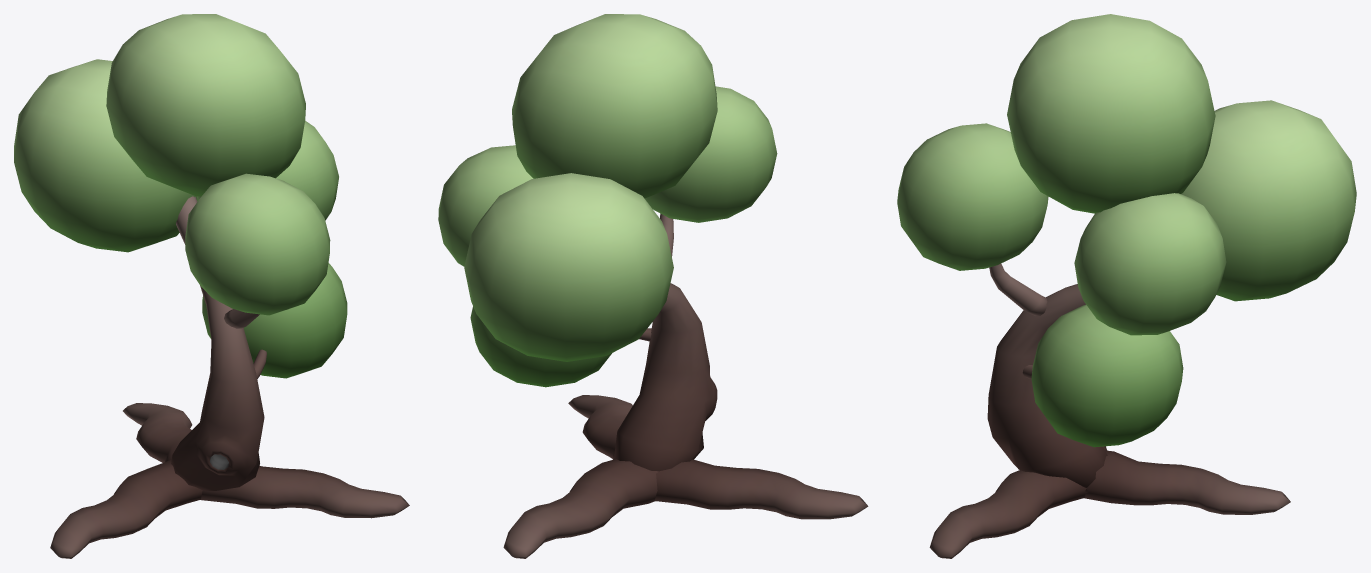
Rendered from Tree12.fbx.
3 views of the same model, side by side, from view 1: azimuth 30°, elevation 25°; view 2: azimuth 150°, elevation 25°; view 3: azimuth 270°, elevation 25° (orthographic). The views are drawn at different scales.
Parts seen in each view (by area): view 1: Tree12Cl_LOD0, Tree12C_LOD0; view 2: Tree12Cl_LOD0, Tree12C_LOD0; view 3: Tree12Cl_LOD0, Tree12C_LOD0.
Boxes of the visible parts, x1=… form: Tree12Cl_LOD0: x1=14, y1=14, x2=347, y2=378; Tree12C_LOD0: x1=50, y1=196, x2=409, y2=558; Tree12Cl_LOD0: x1=438, y1=14, x2=777, y2=387; Tree12C_LOD0: x1=503, y1=213, x2=868, y2=558; Tree12Cl_LOD0: x1=897, y1=14, x2=1356, y2=447; Tree12C_LOD0: x1=929, y1=263, x2=1290, y2=558.
Size of what is drawn, in the model's own units: 11.84 by 13.5 by 15.36.
